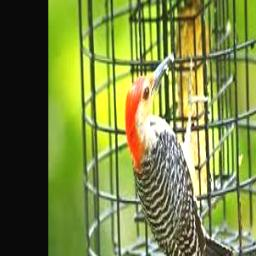Woodpecker: (125, 51, 236, 256)
